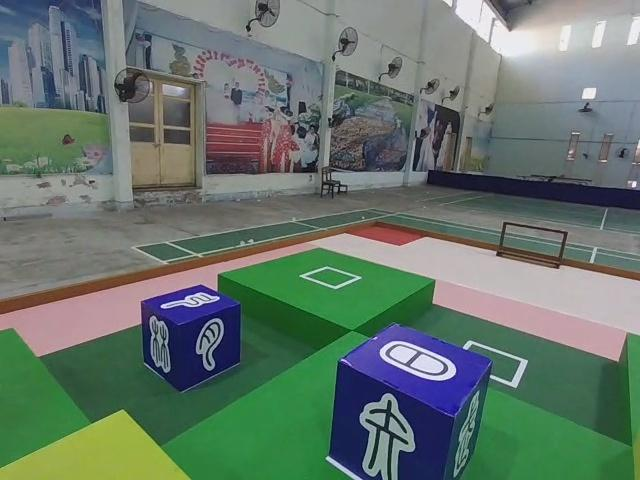R2 Fake Blue: (331, 323, 494, 480), (142, 285, 244, 394)
